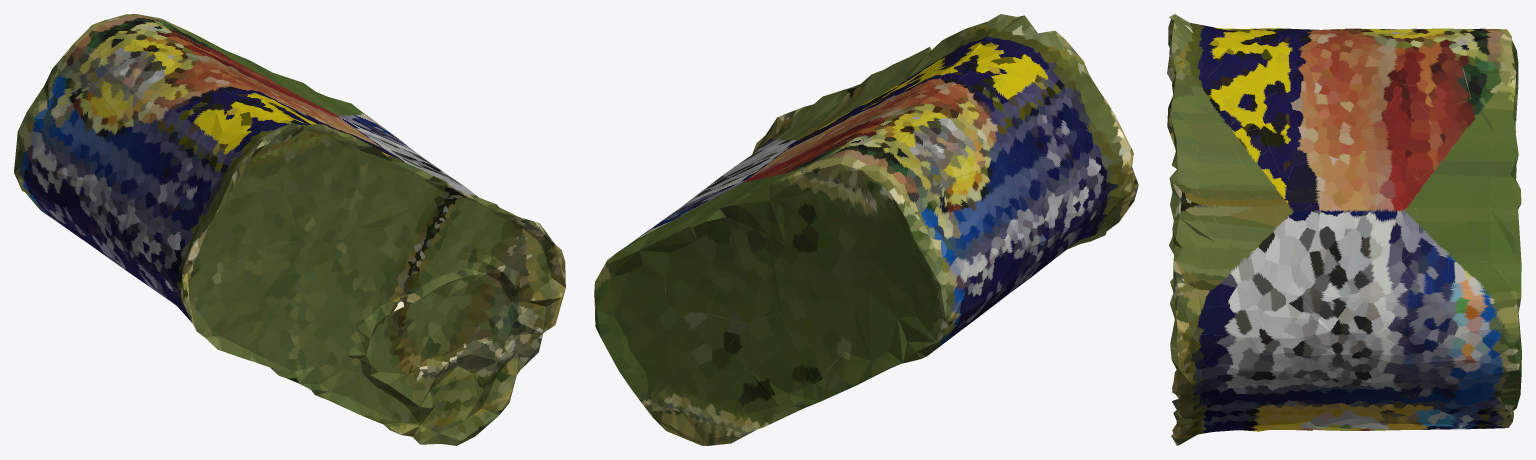
The model's file is ycb_potted_meat_can_metric_fp.obj.
3 views of the same model, side by side, from view 1: azimuth 30°, elevation 25°; view 2: azimuth 150°, elevation 25°; view 3: azimuth 270°, elevation 25° (orthographic). The views are drawn at different scales.
Bounding box in the file's own units: 0.1009 × 0.0902 × 0.0843.
1 material, 1 textured.
